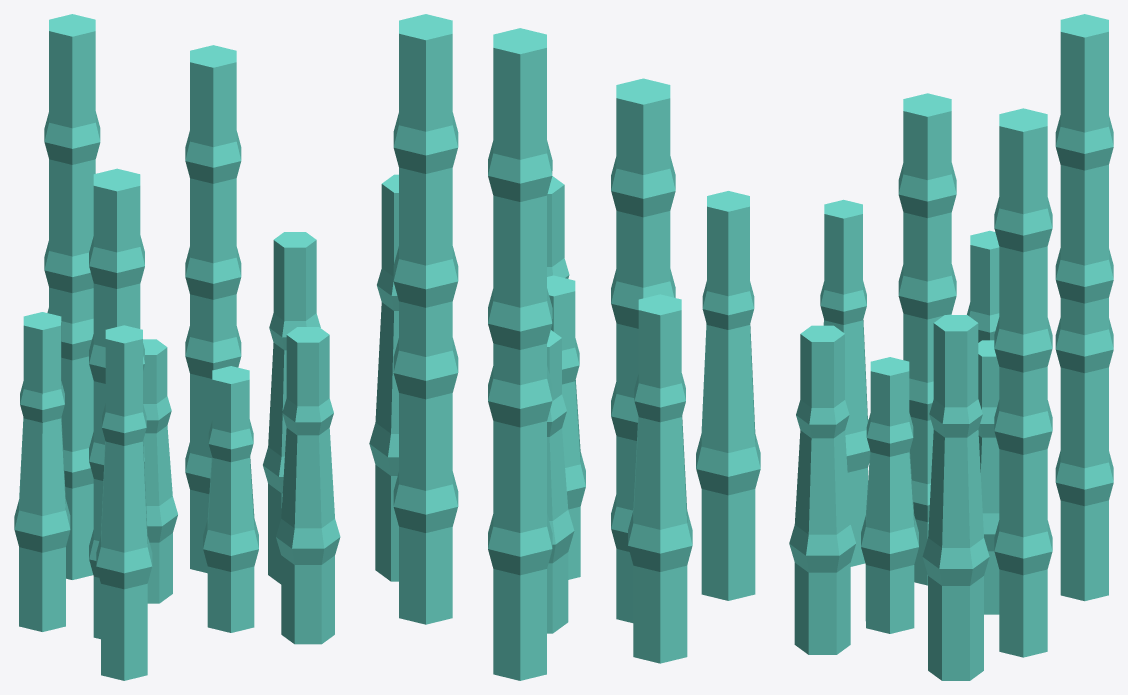
3 renders of one model, left to right at view 1: azimuth 30°, elevation 25°; view 2: azimuth 150°, elevation 25°; view 3: azimuth 270°, elevation 25°, orthographic. The views are drawn at different scales.
Visible parts, largest first — view 1: crops_bambooStageB, crops_bambooStageA.001, crops_bambooStageA; view 2: crops_bambooStageB, crops_bambooStageA.001, crops_bambooStageA; view 3: crops_bambooStageB, crops_bambooStageA, crops_bambooStageA.001.
Part boxes in pixels (left/top/right/bottom): crops_bambooStageB: left=44, top=14, right=241, bottom=639; crops_bambooStageA.001: left=14, top=312, right=258, bottom=680; crops_bambooStageA: left=143, top=232, right=340, bottom=644; crops_bambooStageB: left=393, top=14, right=675, bottom=680; crops_bambooStageA.001: left=547, top=191, right=760, bottom=663; crops_bambooStageA: left=369, top=174, right=574, bottom=633; crops_bambooStageB: left=898, top=14, right=1113, bottom=657; crops_bambooStageA: left=789, top=315, right=999, bottom=680; crops_bambooStageA.001: left=820, top=199, right=999, bottom=633.
Bounding box in the file's own units: 3.33 × 6 × 3.13.
